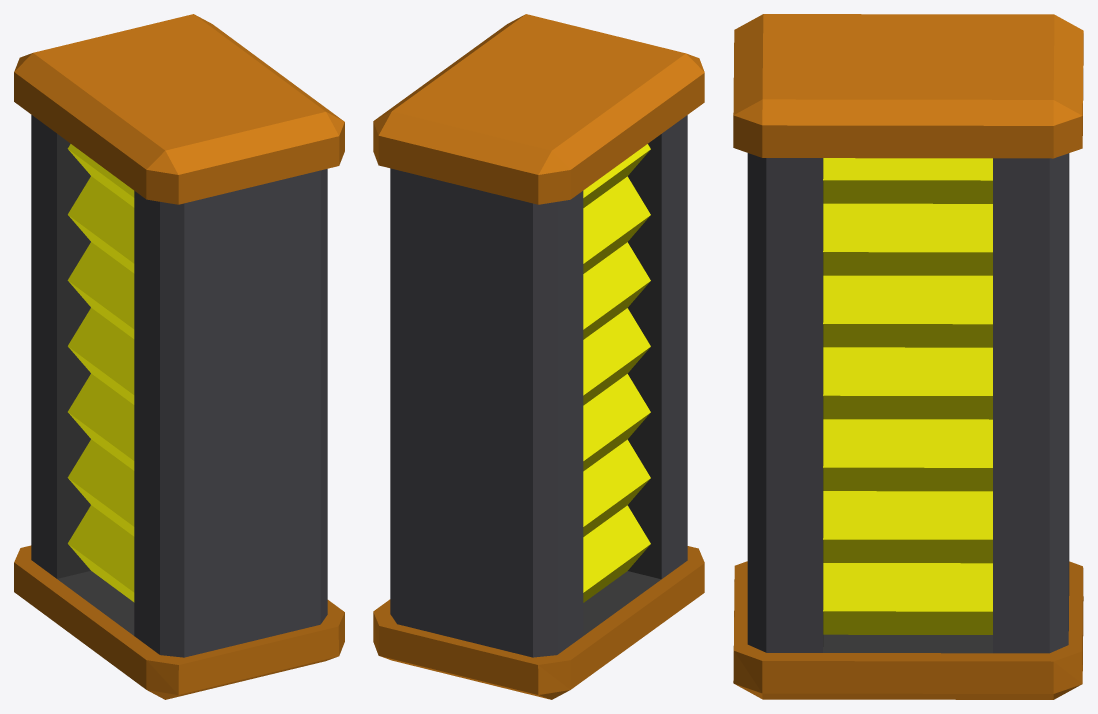
File: Msh_Magazine_A.FBX
3 renders of one model, left to right at view 1: azimuth 30°, elevation 25°; view 2: azimuth 150°, elevation 25°; view 3: azimuth 270°, elevation 25°, orthographic. The views are drawn at different scales.
Visible parts, largest first — view 1: Msh_Magazine_A; view 2: Msh_Magazine_A; view 3: Msh_Magazine_A.
Part boxes in pixels (x1,y1,x2,y2): Msh_Magazine_A: (14,14,344,699); Msh_Magazine_A: (373,14,704,699); Msh_Magazine_A: (733,14,1083,699).
Bounding box in the file's own units: 0.0321 × 0.0447 × 0.0846.
